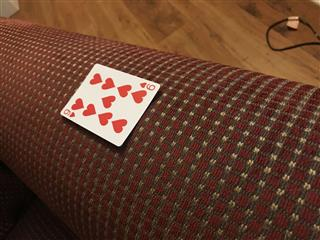NineOfHearts: (58, 62, 161, 147)
